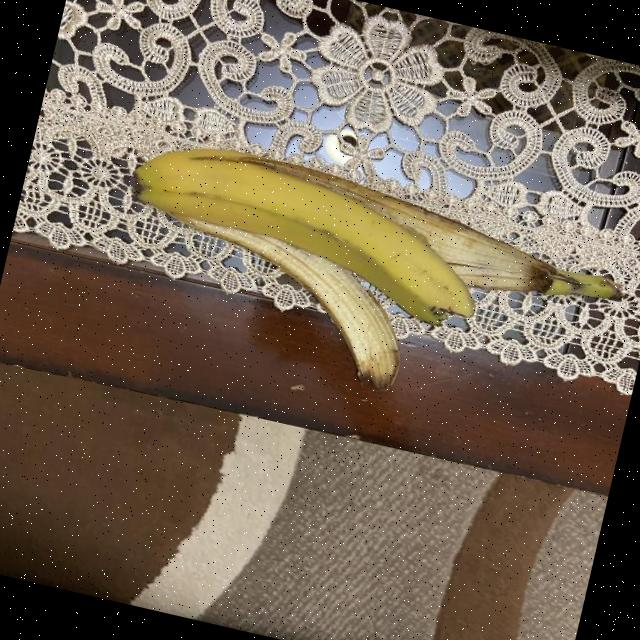banana-peel: (97, 124, 634, 438), (114, 126, 498, 335), (136, 208, 422, 393)
